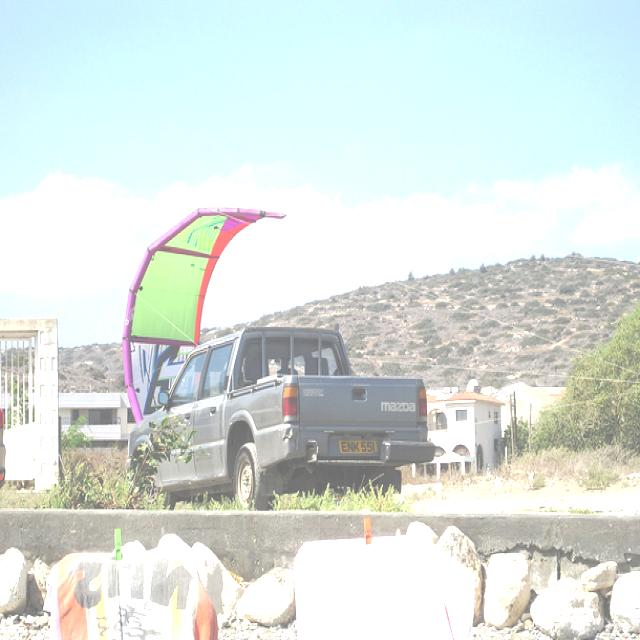Vehicle: (131, 329, 438, 513), (0, 382, 5, 506)
